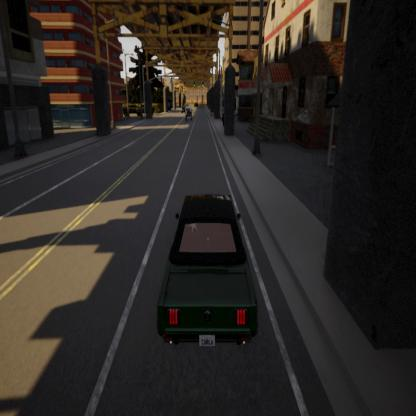Cars: (157, 196, 258, 348), (122, 102, 142, 117), (138, 102, 154, 117), (185, 105, 192, 121), (184, 110, 188, 120), (182, 104, 186, 113)
Pedestrian: (222, 110, 225, 127)
